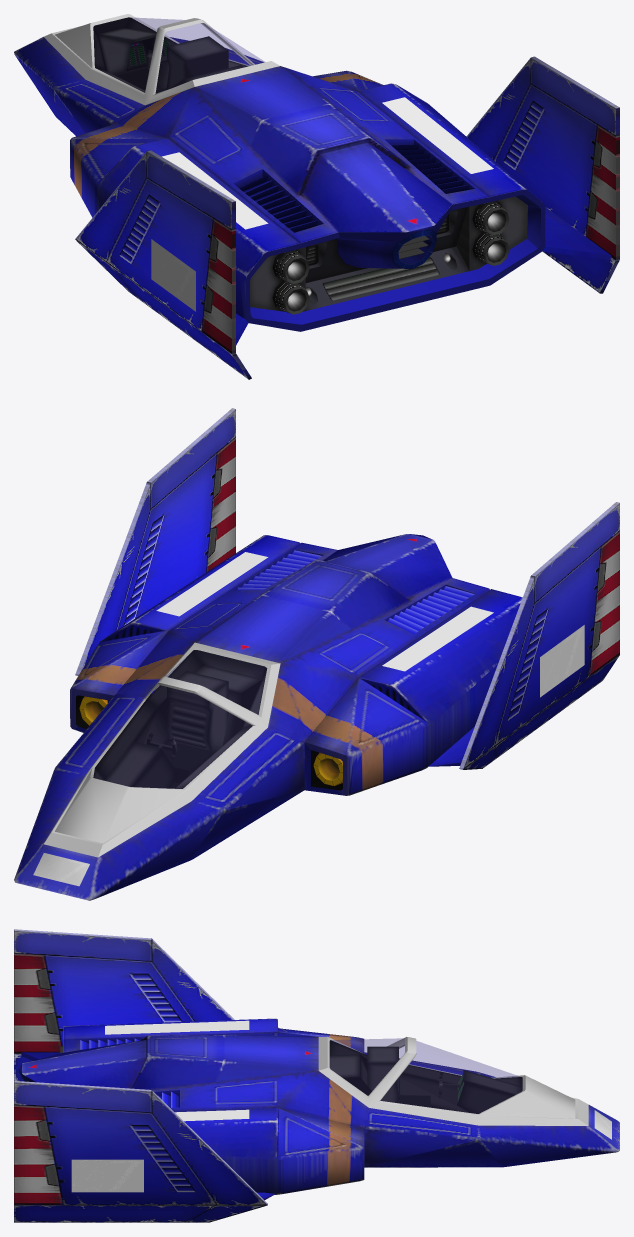
The model's file is BlueFalcon.fbx.
The picture shows the model from 3 angles, top to bottom: view 1: azimuth 30°, elevation 25°; view 2: azimuth 150°, elevation 25°; view 3: azimuth 270°, elevation 25°; orthographic projection. The views are drawn at different scales.
Visible parts, largest first — view 1: 07_bluefalcon_a; view 2: 07_bluefalcon_a; view 3: 07_bluefalcon_a.
Part boxes in pixels (x1=…): 07_bluefalcon_a: x1=14, y1=14, x2=619, y2=379; 07_bluefalcon_a: x1=14, y1=408, x2=619, y2=900; 07_bluefalcon_a: x1=14, y1=929, x2=619, y2=1222.
Bounding box in the file's own units: 252 × 113 × 420.
